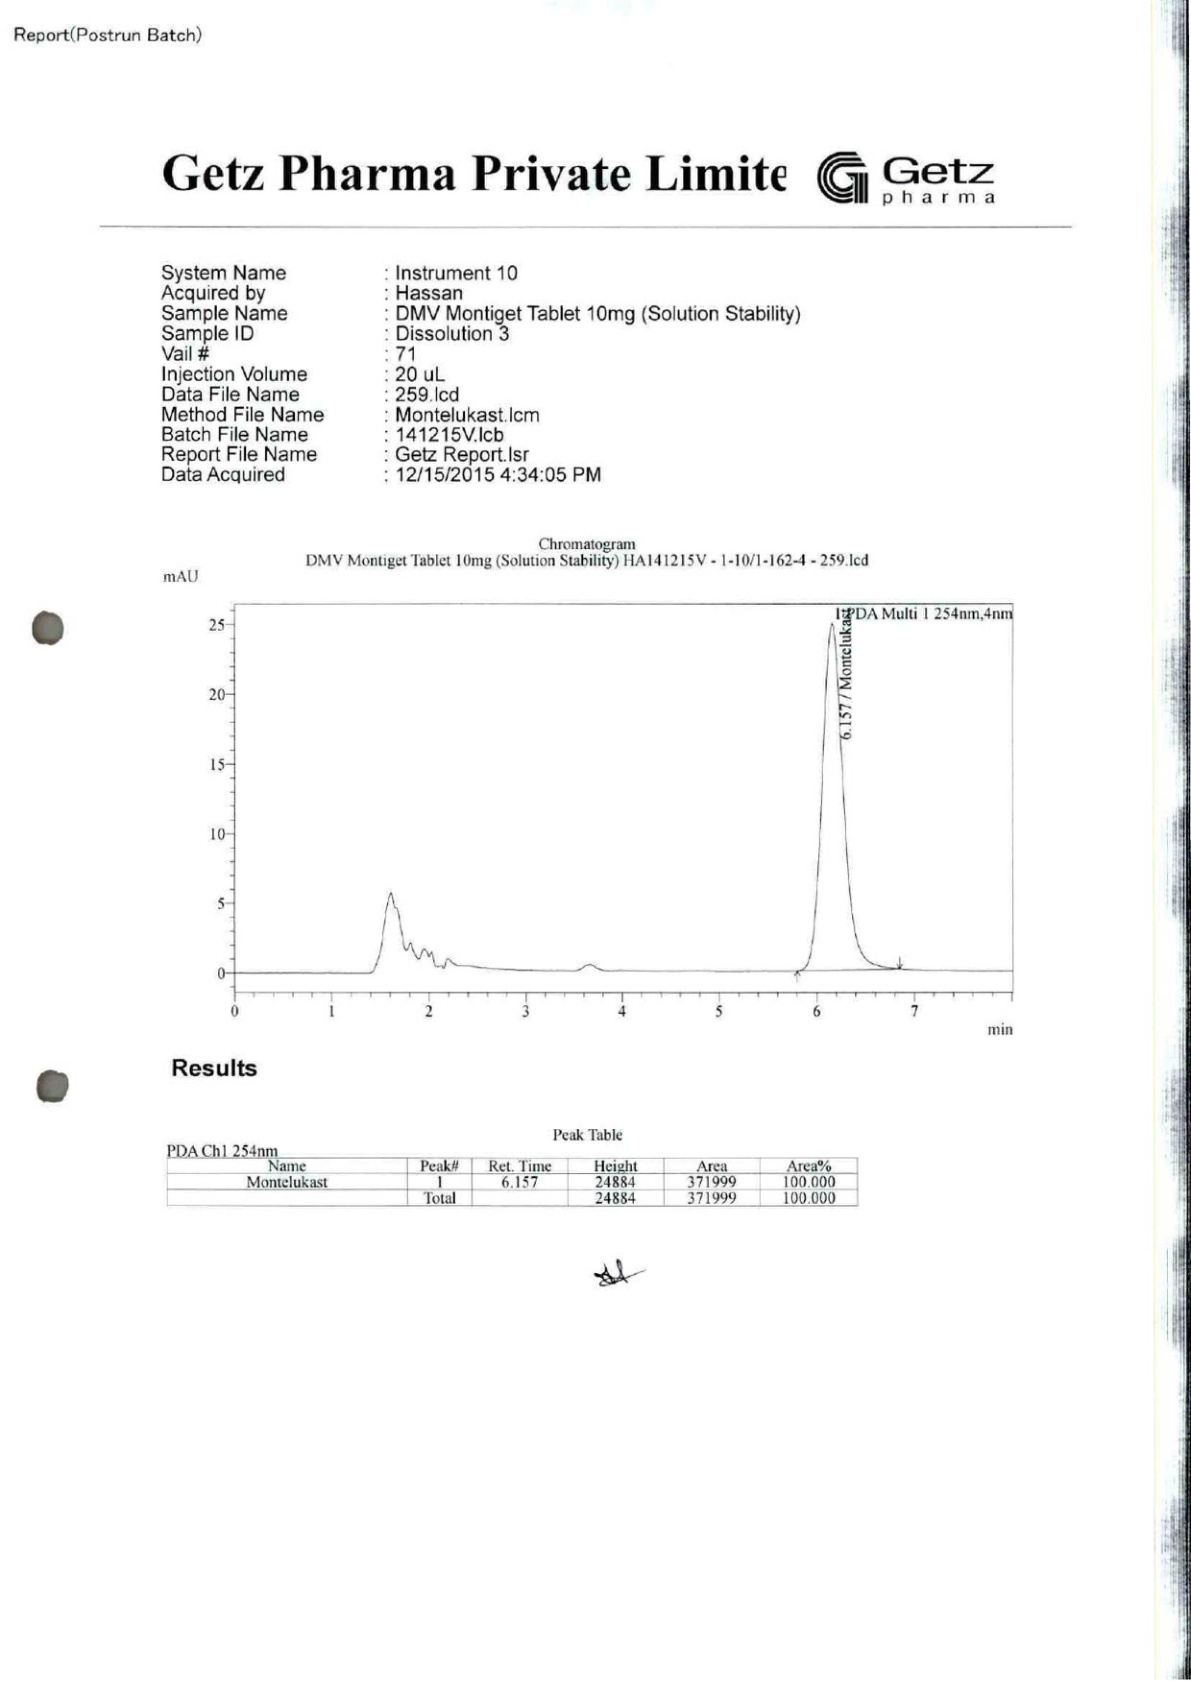full_lined: (166, 1158, 858, 1207)
nolines: (156, 254, 806, 495)
